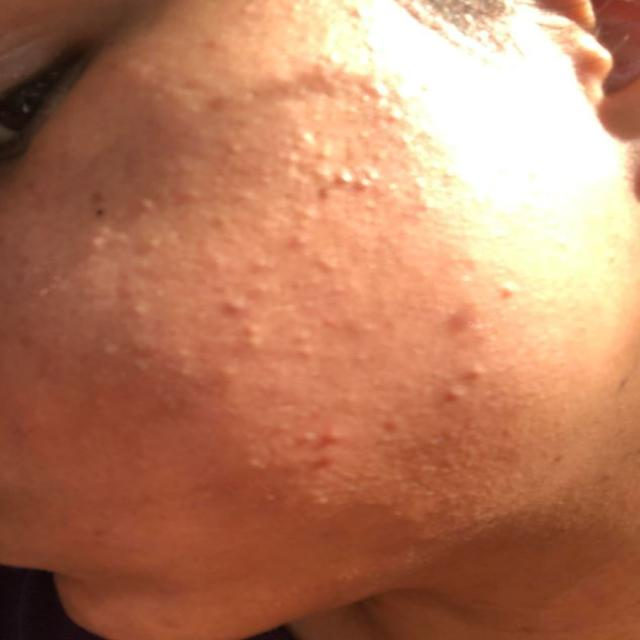fungal: (104, 59, 536, 498)
